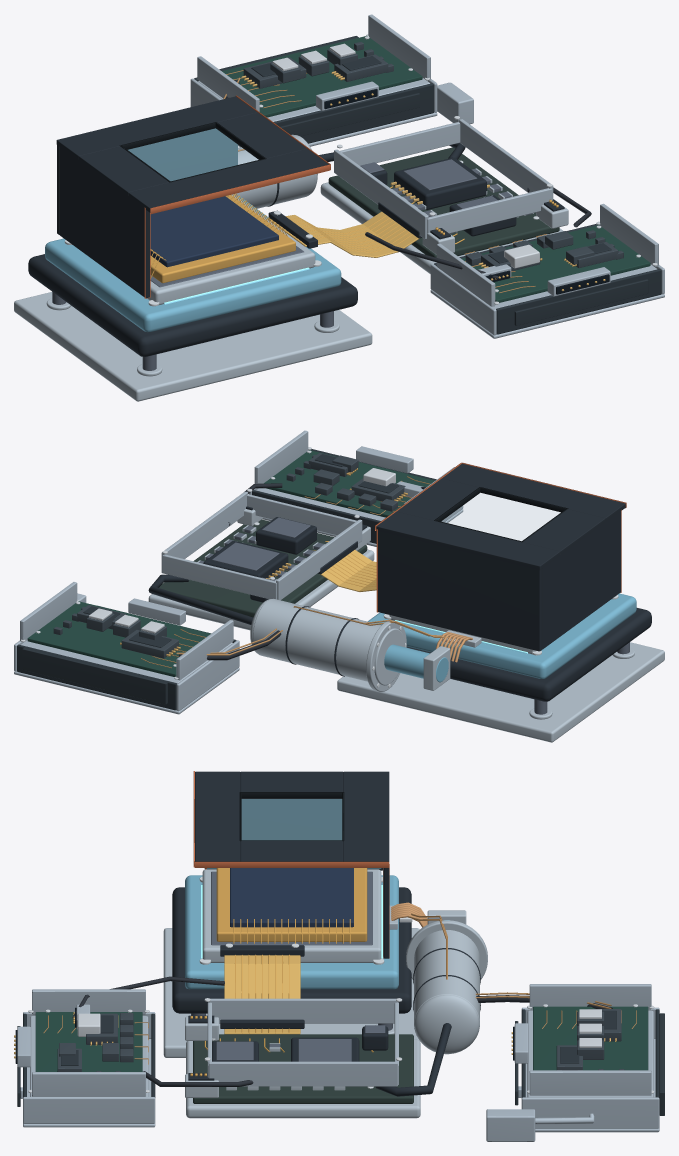
The model's file is focal-plane.glb.
The picture shows the model from 3 angles, top to bottom: view 1: azimuth 30°, elevation 25°; view 2: azimuth 150°, elevation 25°; view 3: azimuth 270°, elevation 25°; orthographic projection. The views are drawn at different scales.
Parts seen in each view (by area): view 1: ColdShield — Black anodized aluminum, ColdCarrier — Machined aluminum, WarmReadout — Machined satin aluminum, ColdCarrier — Black anodized aluminum, ColdCarrier — False-color cold stage, BiasTiming — Machined satin aluminum, ThermalFeedback — Machined satin aluminum, DetectorPackage — Representative detector surface, ThermalFeedback — Anodized chassis, BiasTiming — Anodized chassis, ThermalFeedback — Midnight circuit laminate, WarmReadout — Warm electronics laminate (+20 smaller); view 2: ColdShield — Black anodized aluminum, ColdCarrier — Machined aluminum, CoolingAssembly — Machined aluminum, WarmReadout — Machined satin aluminum, ThermalFeedback — Machined satin aluminum, ColdCarrier — False-color cold stage, ThermalFeedback — Anodized chassis, ColdCarrier — Black anodized aluminum, ThermalFeedback — Midnight circuit laminate, BiasTiming — Machined satin aluminum, WarmReadout — Black anodized aluminum, WarmReadout — Warm electronics laminate (+18 smaller); view 3: ThermalFeedback — Machined satin aluminum, ColdShield — Black anodized aluminum, BiasTiming — Machined satin aluminum, WarmReadout — Machined satin aluminum, CoolingAssembly — Machined aluminum, DetectorPackage — Representative detector surface, ColdCarrier — Machined aluminum, WarmReadout — Warm electronics laminate, ColdCarrier — False-color cold stage, WarmReadout — Machined aluminum, ThermalFeedback — Midnight circuit laminate, ColdCarrier — Black anodized aluminum (+21 smaller).
Part boxes in pixels (x1=…): ColdShield — Black anodized aluminum: x1=56, y1=96, x2=328, y2=298; ColdCarrier — Machined aluminum: x1=14, y1=194, x2=372, y2=401; WarmReadout — Machined satin aluminum: x1=334, y1=119, x2=553, y2=239; ColdCarrier — Black anodized aluminum: x1=28, y1=254, x2=357, y2=356; ColdCarrier — False-color cold stage: x1=45, y1=196, x2=341, y2=332; BiasTiming — Machined satin aluminum: x1=430, y1=203, x2=664, y2=338; ThermalFeedback — Machined satin aluminum: x1=190, y1=14, x2=473, y2=147; DetectorPackage — Representative detector surface: x1=150, y1=196, x2=278, y2=267; ThermalFeedback — Anodized chassis: x1=194, y1=36, x2=433, y2=143; BiasTiming — Anodized chassis: x1=434, y1=224, x2=661, y2=334; ThermalFeedback — Midnight circuit laminate: x1=222, y1=36, x2=422, y2=117; WarmReadout — Warm electronics laminate: x1=328, y1=147, x2=559, y2=257; ColdShield — Black anodized aluminum: x1=376, y1=463, x2=625, y2=651; ColdCarrier — Machined aluminum: x1=337, y1=615, x2=664, y2=742; CoolingAssembly — Machined aluminum: x1=250, y1=598, x2=406, y2=691; WarmReadout — Machined satin aluminum: x1=161, y1=491, x2=362, y2=600; ThermalFeedback — Machined satin aluminum: x1=14, y1=582, x2=239, y2=714; ColdCarrier — False-color cold stage: x1=368, y1=593, x2=636, y2=678; ThermalFeedback — Anodized chassis: x1=17, y1=605, x2=236, y2=710; ColdCarrier — Black anodized aluminum: x1=406, y1=608, x2=651, y2=701; ThermalFeedback — Midnight circuit laminate: x1=27, y1=601, x2=210, y2=676; BiasTiming — Machined satin aluminum: x1=249, y1=430, x2=463, y2=546; WarmReadout — Black anodized aluminum: x1=148, y1=506, x2=367, y2=624; WarmReadout — Warm electronics laminate: x1=159, y1=519, x2=367, y2=617; ThermalFeedback — Machined satin aluminum: x1=486, y1=984, x2=659, y2=1141; ColdShield — Black anodized aluminum: x1=195, y1=771, x2=389, y2=958; BiasTiming — Machined satin aluminum: x1=17, y1=989, x2=155, y2=1127; WarmReadout — Machined satin aluminum: x1=207, y1=998, x2=398, y2=1086; CoolingAssembly — Machined aluminum: x1=406, y1=920, x2=487, y2=1054; DetectorPackage — Representative detector surface: x1=230, y1=868, x2=353, y2=927; ColdCarrier — Machined aluminum: x1=163, y1=869, x2=419, y2=1057; WarmReadout — Warm electronics laminate: x1=193, y1=1034, x2=413, y2=1103; ColdCarrier — False-color cold stage: x1=185, y1=875, x2=398, y2=989; WarmReadout — Machined aluminum: x1=185, y1=1016, x2=420, y2=1118; ThermalFeedback — Midnight circuit laminate: x1=533, y1=1006, x2=648, y2=1070; ColdCarrier — Black anodized aluminum: x1=172, y1=887, x2=411, y2=1013.
Size of the model in its own units: 5.18 by 1.77 by 5.71.
